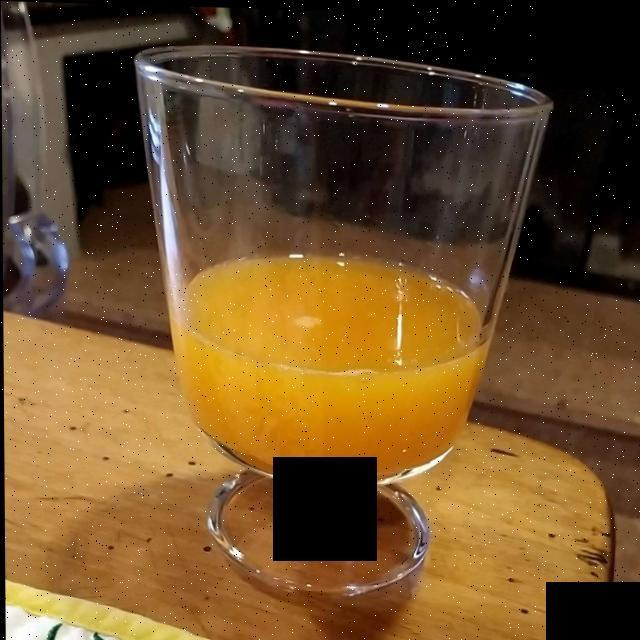juice: (177, 248, 478, 472)
